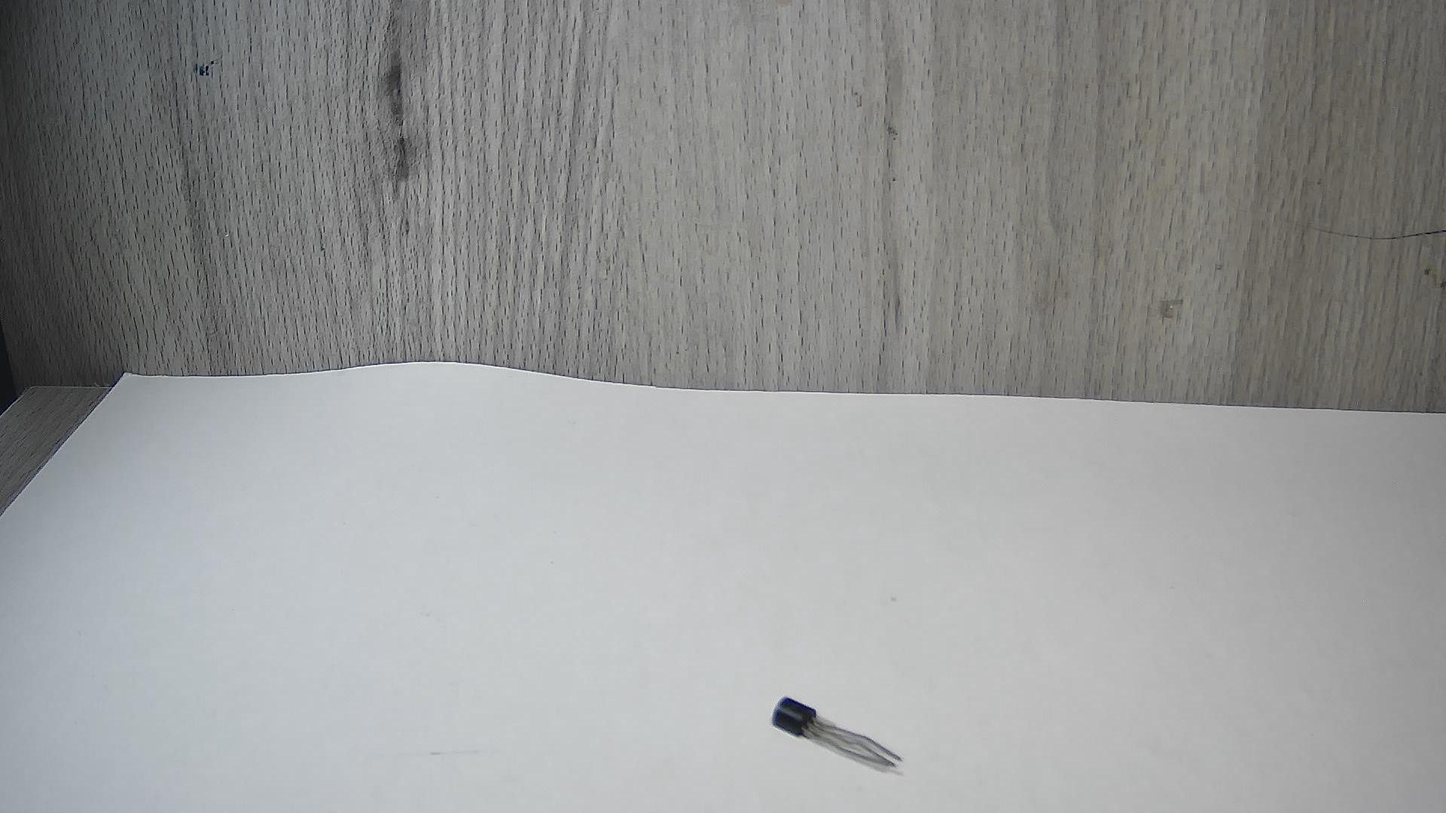Transistor: (754, 680, 920, 786)
